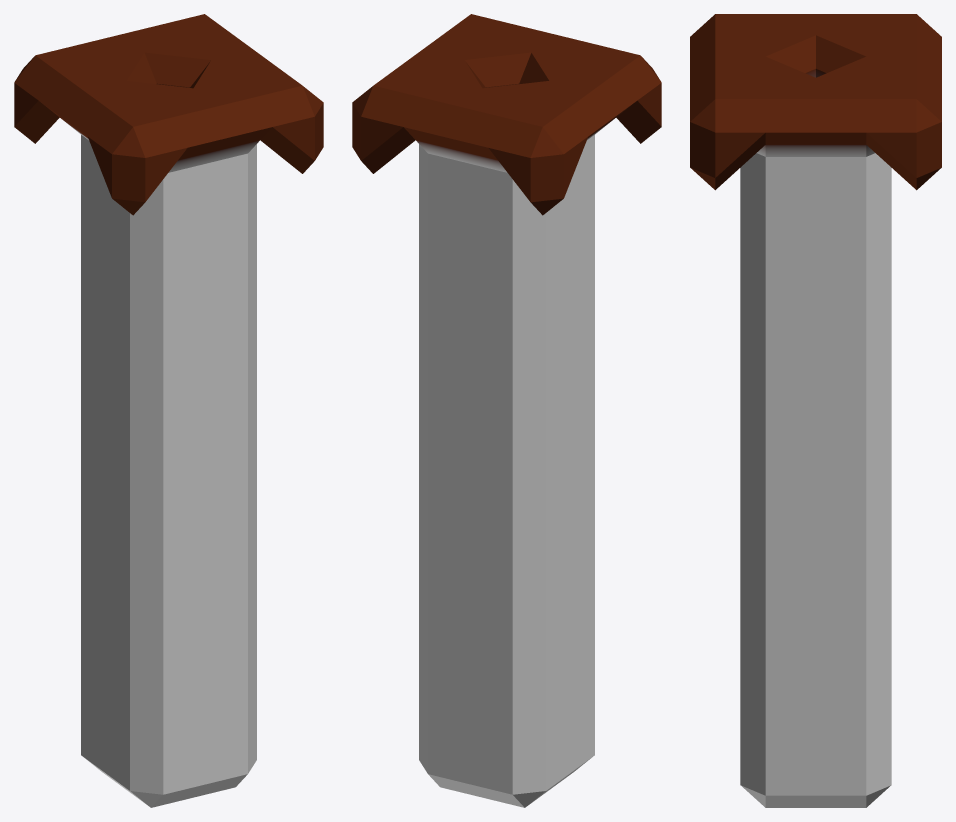
The model's file is LongPotion.fbx.
The picture shows the model from 3 angles, left to right: view 1: azimuth 30°, elevation 25°; view 2: azimuth 150°, elevation 25°; view 3: azimuth 270°, elevation 25°; orthographic projection. The views are drawn at different scales.
Parts seen in each view (by area): view 1: Long Potion; view 2: Long Potion; view 3: Long Potion.
Boxes of the visible parts, box(x1,y1,x2,y2) form: Long Potion: box(14, 14, 323, 807); Long Potion: box(352, 14, 661, 807); Long Potion: box(690, 14, 941, 807).
Bounding box in the file's own units: 50 × 160 × 50.
